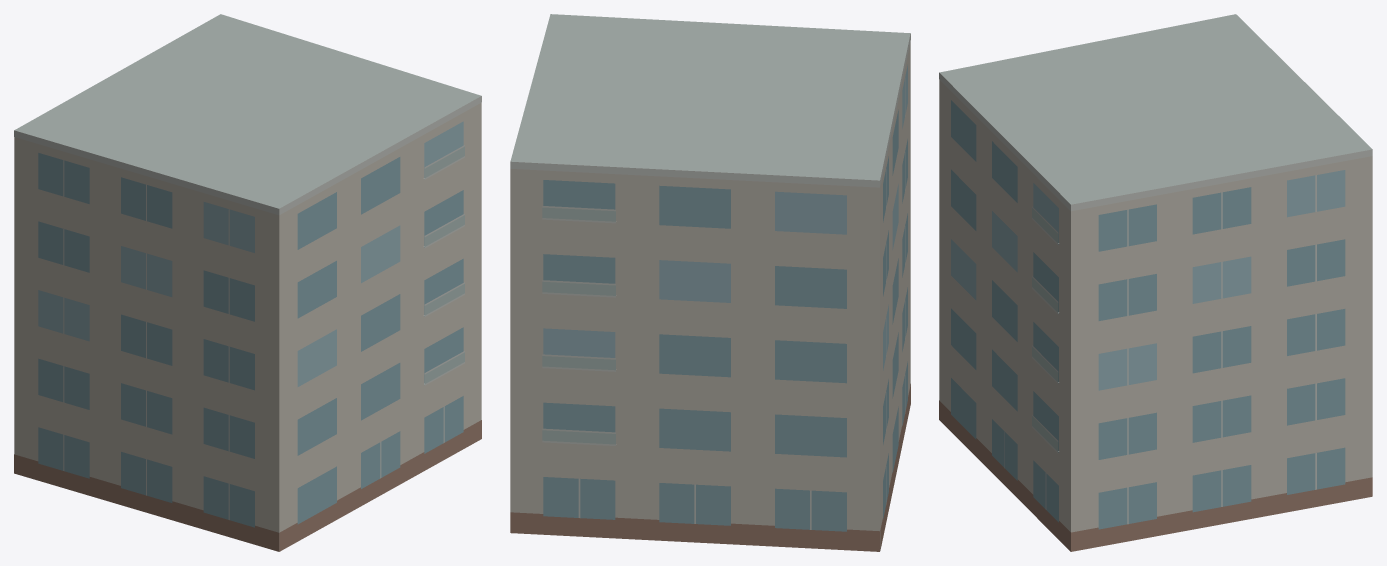
Rendered from survey-upis-32772514.glb.
3 views of the same model, side by side, from view 1: azimuth 30°, elevation 25°; view 2: azimuth 150°, elevation 25°; view 3: azimuth 270°, elevation 25° (orthographic). The views are drawn at different scales.
Visible parts, largest first — view 1: survey-upis-32772514.tmp; view 2: survey-upis-32772514.tmp; view 3: survey-upis-32772514.tmp.
Part boxes in pixels (x1,y1,x2,y2): survey-upis-32772514.tmp: [14, 14, 481, 551]; survey-upis-32772514.tmp: [510, 14, 910, 551]; survey-upis-32772514.tmp: [939, 14, 1372, 551].
Bounding box in the file's own units: 15.01 × 12.74 × 14.43.
